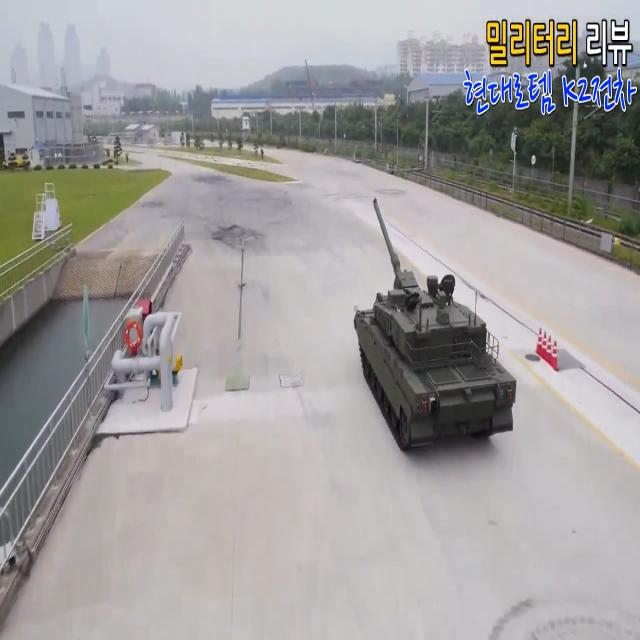korea tank: (354, 198, 516, 447)
